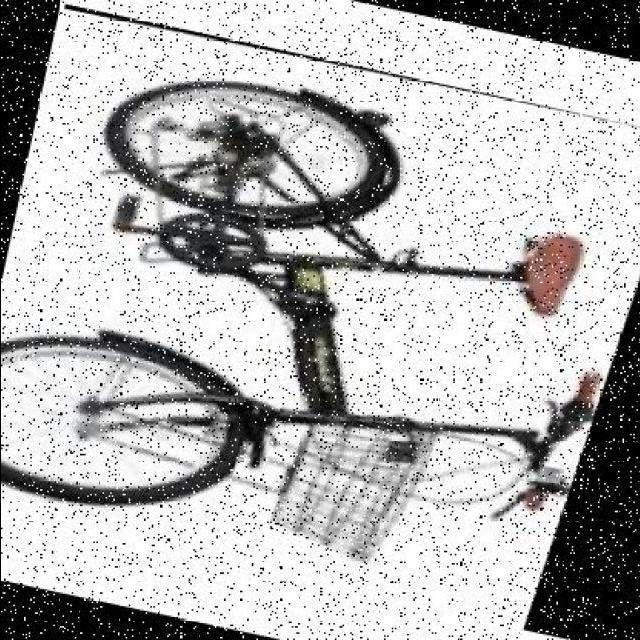bicycle: (3, 4, 640, 639)
